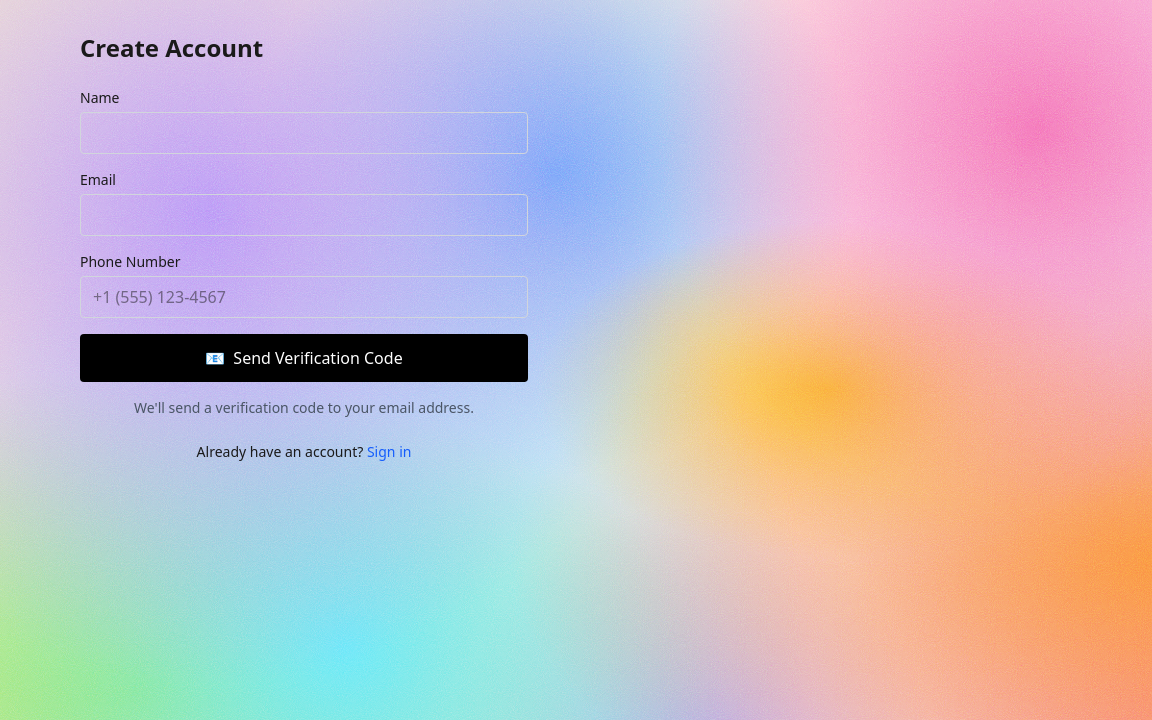
Test: RegisterForm › Email Step - Form Validation › shows error when phone is empty
The image size is (1152, 720).
Type "Test User" into the field labelled "Name" at (304, 133), box 80,112 -> 528,154
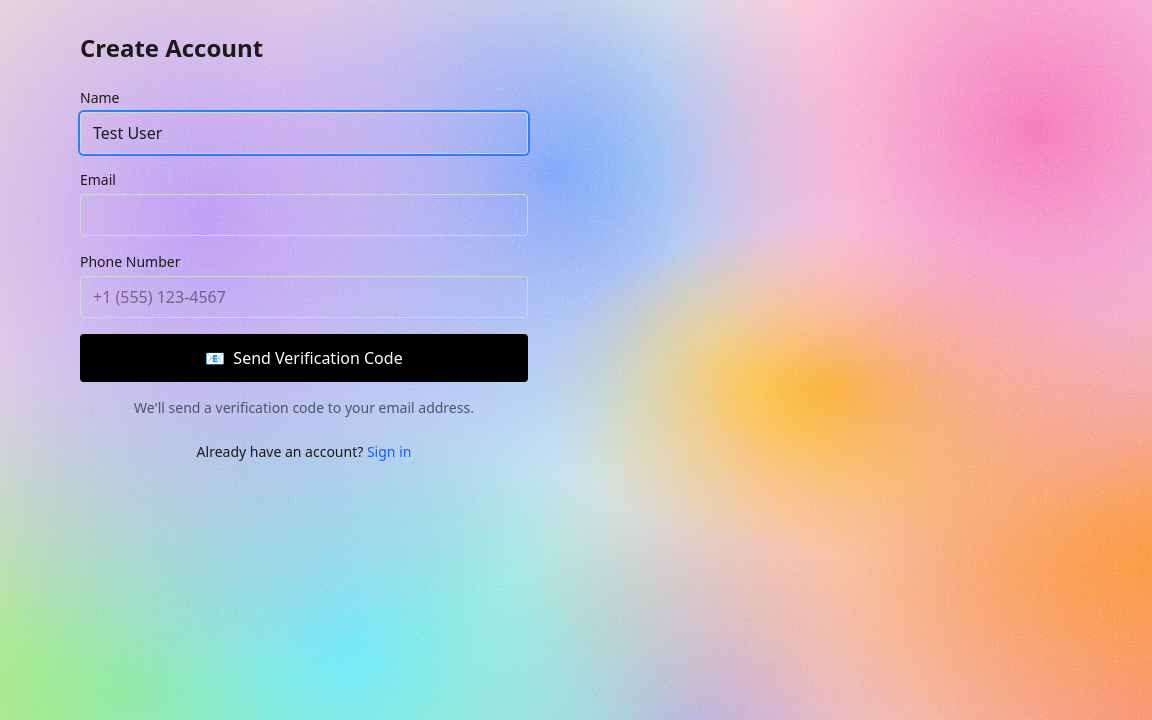
Type "test@example.com" into the field labelled "Email" at (304, 215), box 80,194 -> 528,236
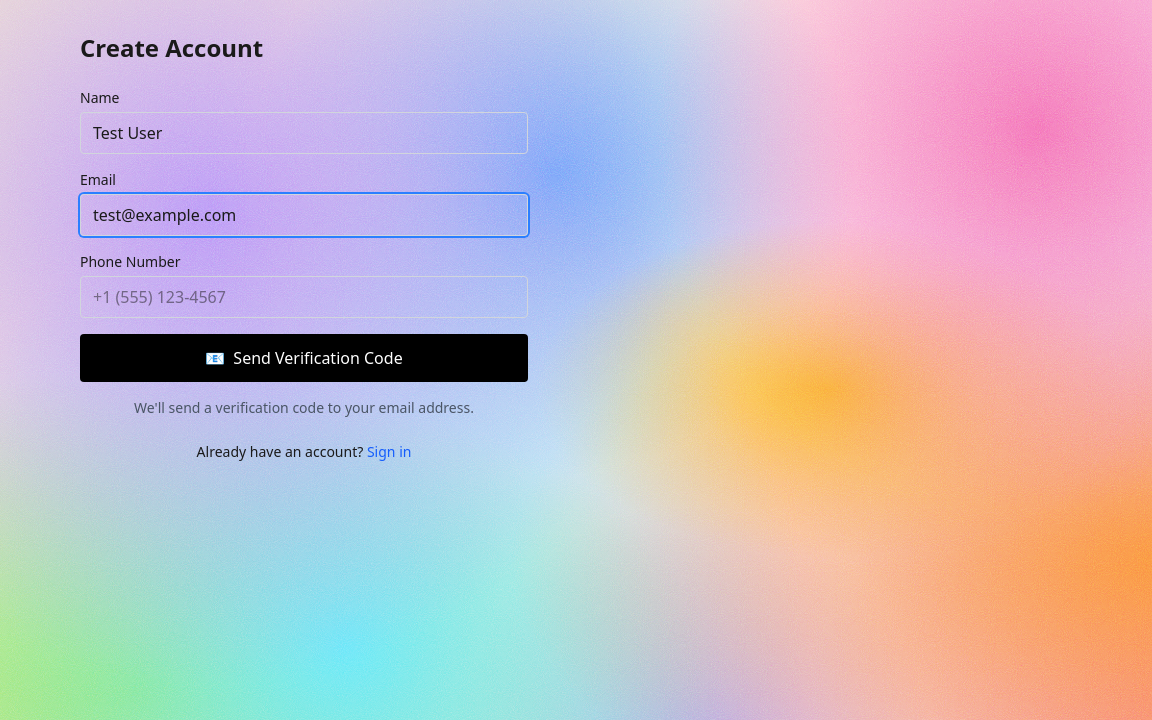
Clear the field labelled "Phone Number" at (304, 297), box 80,276 -> 528,318
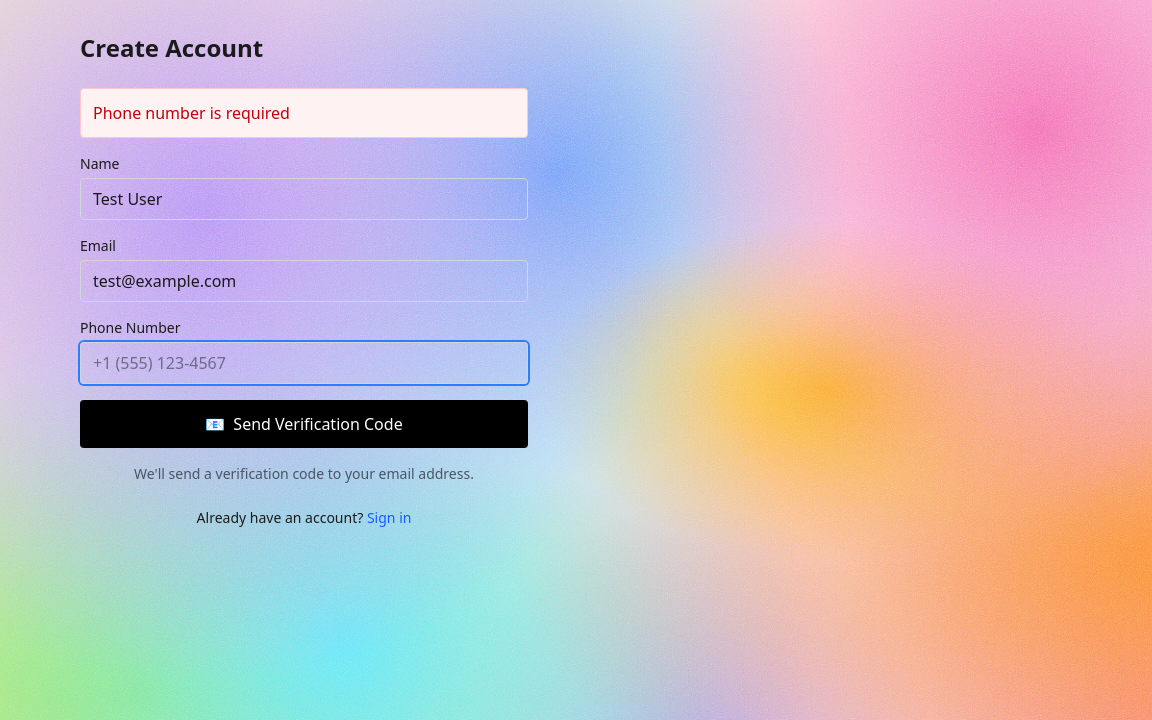
Now the text "Phone number is required" is shown, box 80,88 -> 528,138
